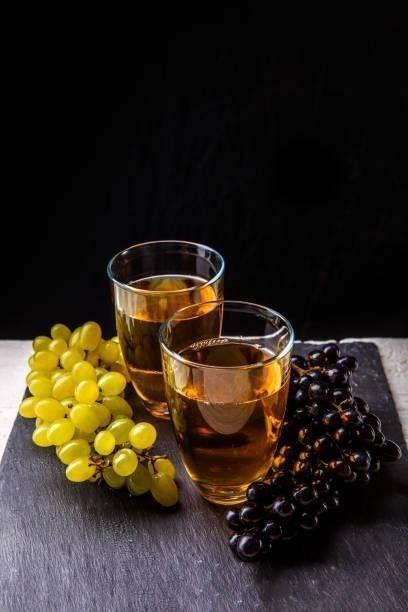glass-normal: (157, 299, 295, 507), (105, 239, 226, 419)
